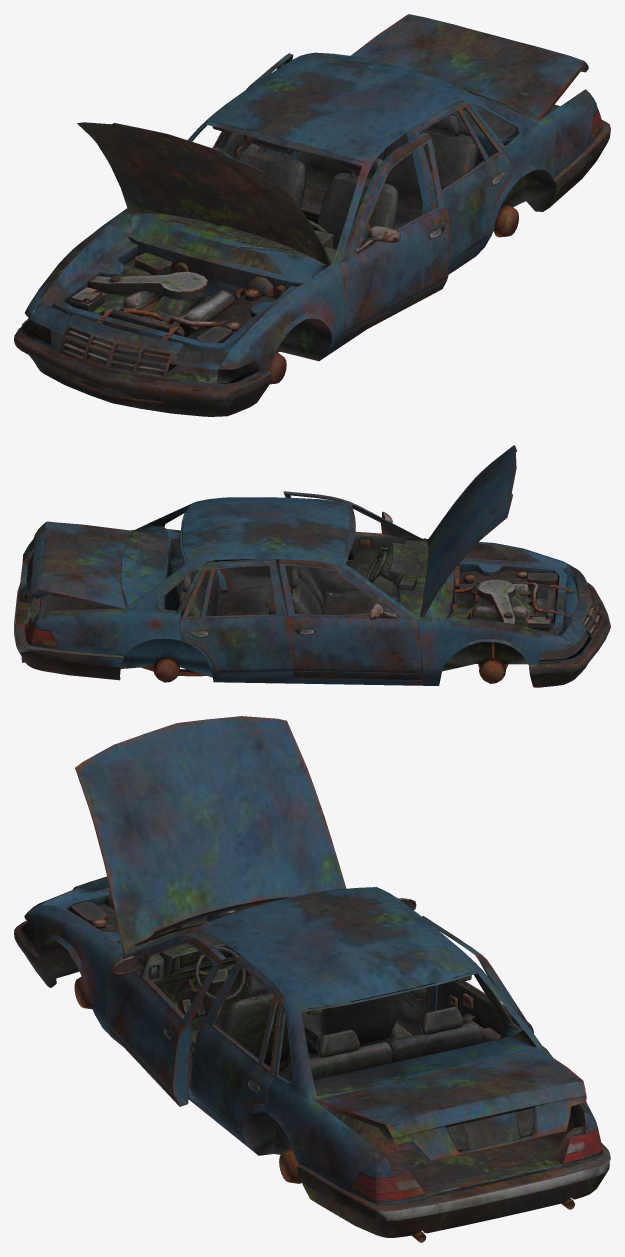
Rendered from sedan_enkazi_2.gltf.
3 renders of one model, top to bottom at view 1: azimuth 30°, elevation 25°; view 2: azimuth 150°, elevation 25°; view 3: azimuth 270°, elevation 25°, orthographic. The views are drawn at different scales.
Parts seen in each view (by area): view 1: sedan_enkazi_2; view 2: sedan_enkazi_2; view 3: sedan_enkazi_2.
Boxes of the visible parts, bbox=[...] form: sedan_enkazi_2: bbox=[14, 14, 610, 416]; sedan_enkazi_2: bbox=[14, 445, 610, 687]; sedan_enkazi_2: bbox=[14, 716, 610, 1242].
Size of what is drawn, in the model's own units: 4.6 by 1.61 by 3.36.
2 materials, 2 textured.
